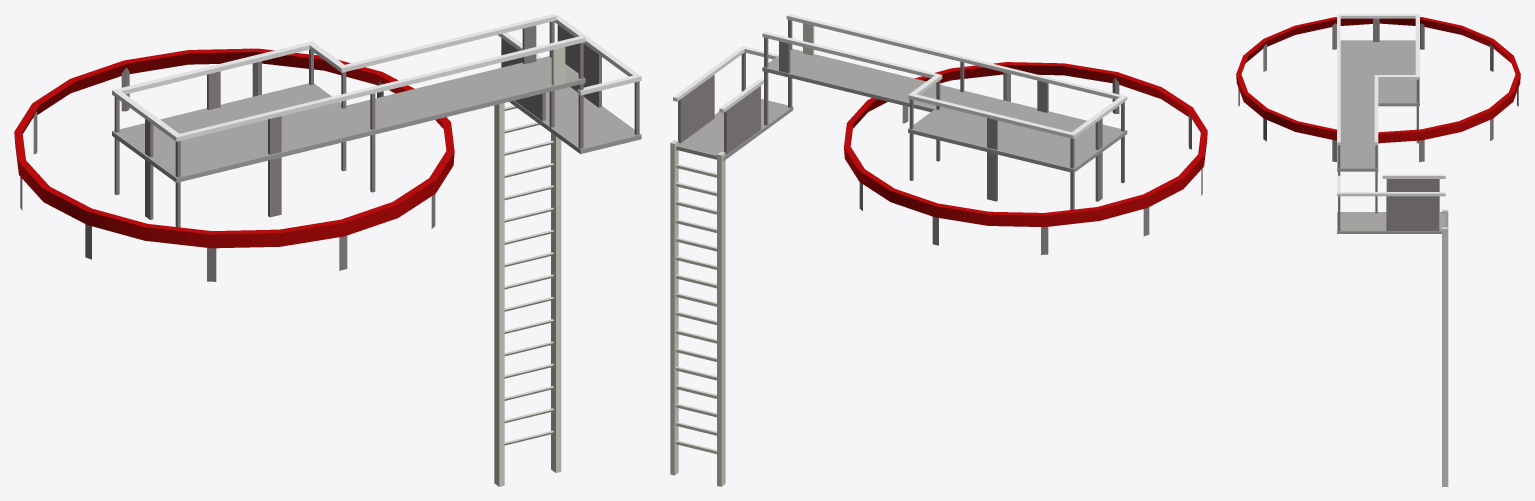
Rendered from bigtank1_platform.fbx.
The picture shows the model from 3 angles, left to right: view 1: azimuth 30°, elevation 25°; view 2: azimuth 150°, elevation 25°; view 3: azimuth 270°, elevation 25°; orthographic projection. The views are drawn at different scales.
Parts seen in each view (by area): view 1: bigtank1_platform; view 2: bigtank1_platform; view 3: bigtank1_platform.
Part boxes in pixels (x1,y1,x2,y2): bigtank1_platform: (14, 14, 641, 486); bigtank1_platform: (670, 14, 1207, 486); bigtank1_platform: (1236, 14, 1520, 486).
Bounding box in the file's own units: 1333 × 1139 × 900.
